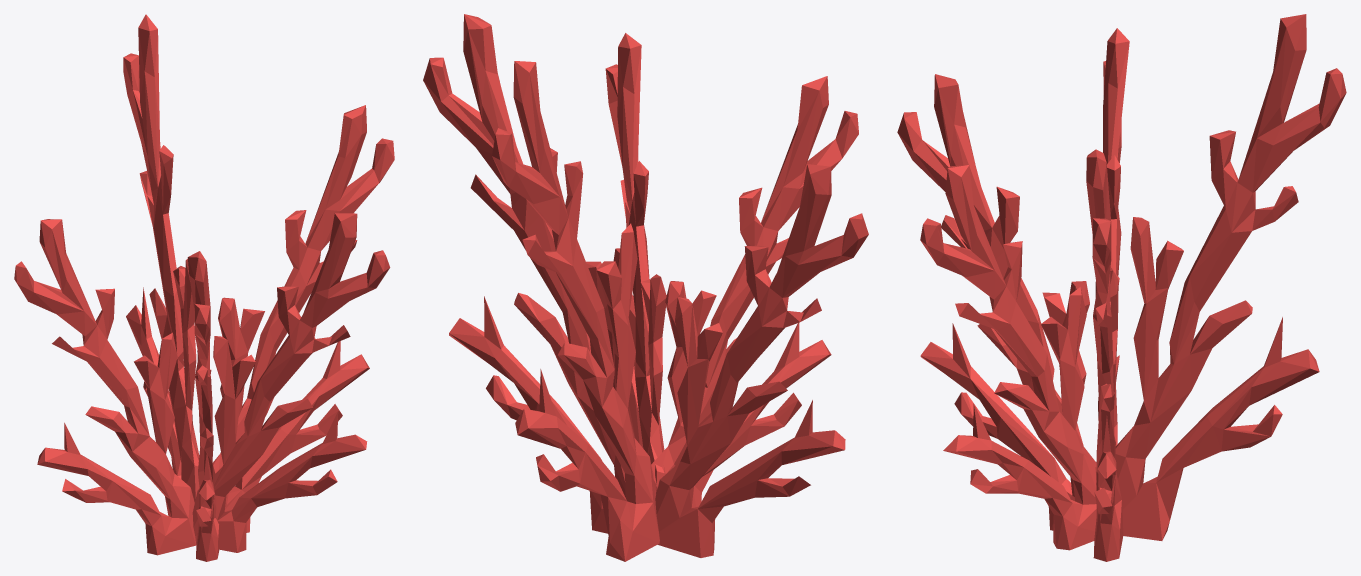
Rendered from Coral_008.glb.
3 renders of one model, left to right at view 1: azimuth 30°, elevation 25°; view 2: azimuth 150°, elevation 25°; view 3: azimuth 270°, elevation 25°, orthographic. The views are drawn at different scales.
Parts seen in each view (by area): view 1: Coral_008; view 2: Coral_008; view 3: Coral_008.
Boxes of the visible parts, x1=… form: Coral_008: x1=14, y1=14, x2=394, y2=561; Coral_008: x1=423, y1=14, x2=868, y2=561; Coral_008: x1=897, y1=14, x2=1346, y2=561.
Size of the model in its own units: 0.9658 by 1.13 by 0.8519.
1 material, 1 textured.
